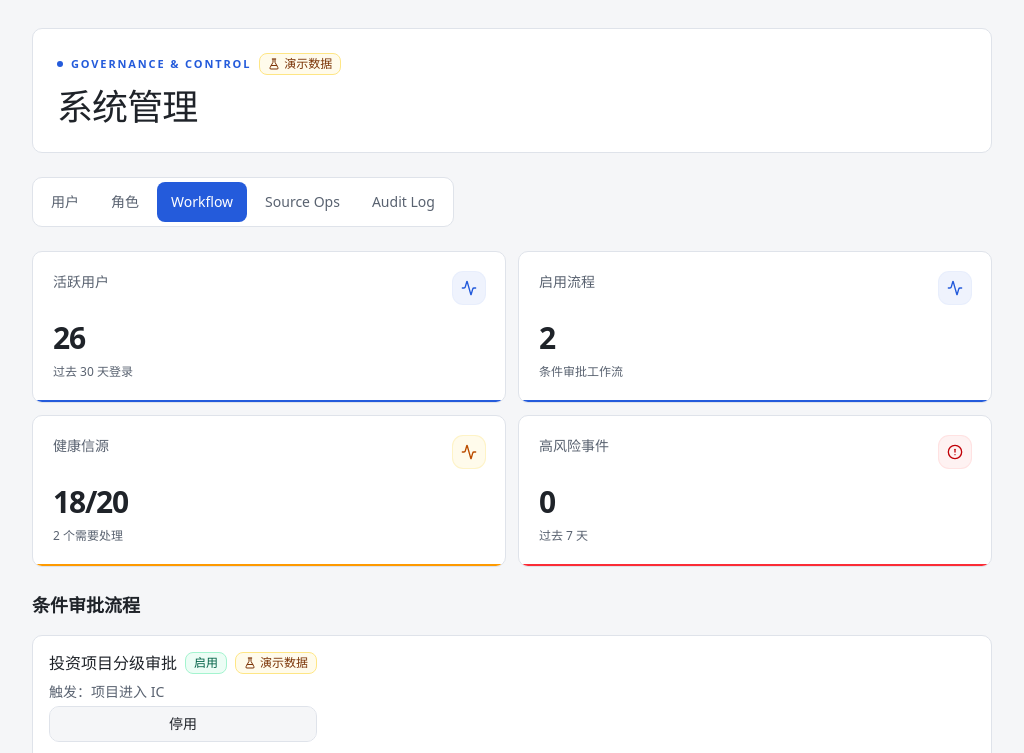
Test case: interactive operating centers › lets an administrator disable and re-enable a workflow
Click the button with aria-label "停用 投资项目分级审批" at (183, 724), box [49,706,317,742]
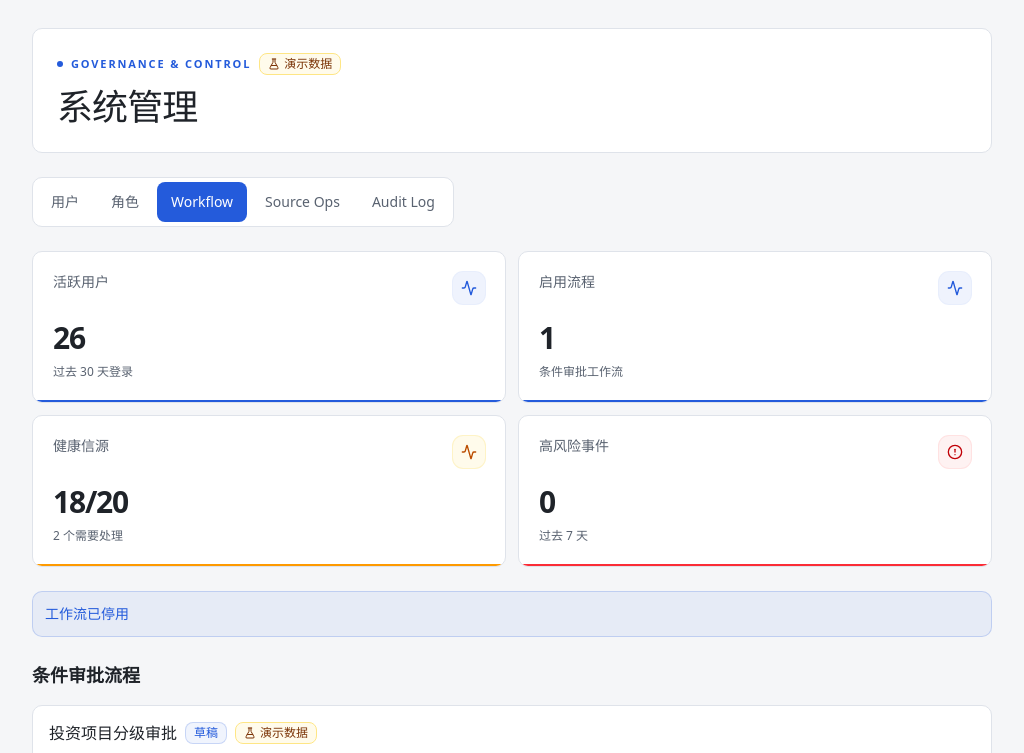
Check: the text "工作流已停用" is shown, box [32,591,992,637]
